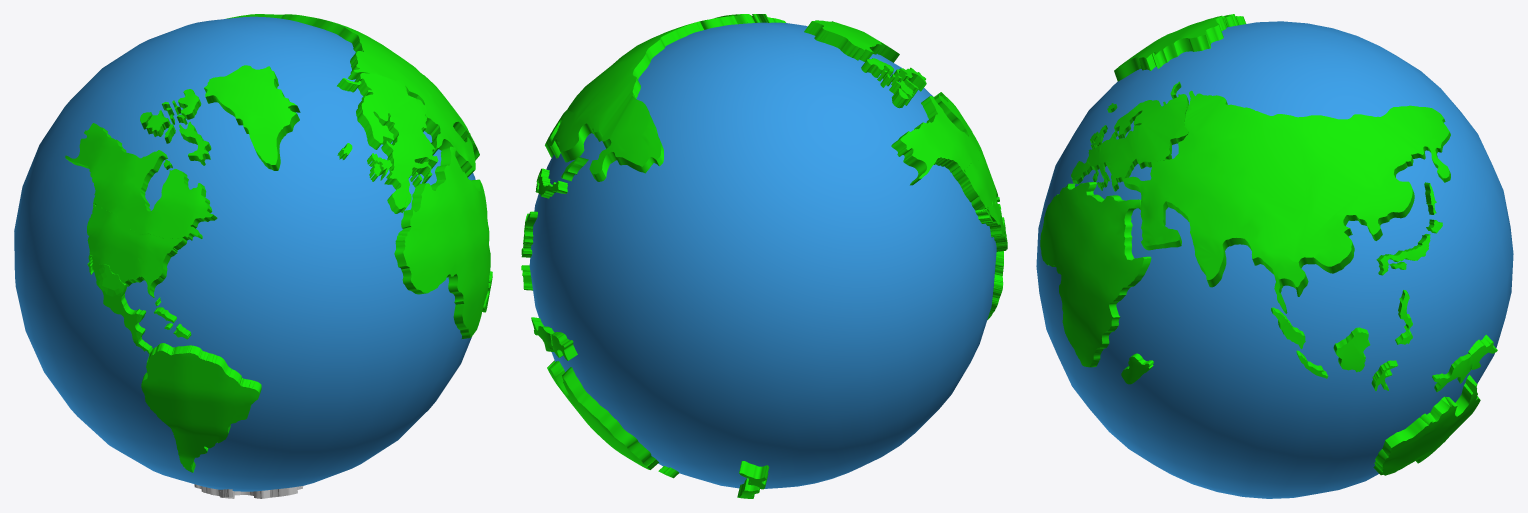
Rendered from WorldAsset.fbx.
3 renders of one model, left to right at view 1: azimuth 30°, elevation 25°; view 2: azimuth 150°, elevation 25°; view 3: azimuth 270°, elevation 25°, orthographic. The views are drawn at different scales.
Parts seen in each view (by area): view 1: Sphere, Plane.006, AmericaDelSur, Plane.002, Plane, AmericaDelSur.001, Plane.004, Plane.001; view 2: Sphere, Plane.006, AmericaDelSur, Plane.013, AmericaDelSur.001, Plane.012, Plane.003, Plane.004, Plane.010, Plane; view 3: Sphere, Plane.006, Plane.002, Plane.013, Plane.012, AmericaDelSur.001, Plane.003, Plane.011.
Boxes of the visible parts, <box> form: Sphere: <box>14,16,475,491</box>; Plane.006: <box>226,14,479,213</box>; AmericaDelSur: <box>65,123,217,297</box>; Plane.002: <box>394,146,490,338</box>; Plane: <box>141,343,261,472</box>; AmericaDelSur.001: <box>140,65,300,170</box>; Plane.004: <box>87,254,191,354</box>; Plane.001: <box>194,484,303,498</box>; Sphere: <box>529,22,996,488</box>; Plane.006: <box>545,14,785,181</box>; AmericaDelSur: <box>891,92,998,210</box>; Plane.013: <box>547,332,678,478</box>; AmericaDelSur.001: <box>804,20,936,108</box>; Plane.012: <box>521,211,554,352</box>; Plane.003: <box>535,157,588,198</box>; Plane.004: <box>975,197,1007,251</box>; Plane.010: <box>737,461,769,498</box>; Plane: <box>987,251,1003,319</box>; Sphere: <box>1036,21,1513,498</box>; Plane.006: <box>1071,81,1450,313</box>; Plane.002: <box>1040,182,1151,367</box>; Plane.013: <box>1373,334,1497,475</box>; Plane.012: <box>1271,290,1472,391</box>; AmericaDelSur.001: <box>1114,14,1246,81</box>; Plane.003: <box>1376,182,1442,275</box>; Plane.011: <box>1121,353,1153,384</box>.
Bounding box in the file's own units: 3392 × 3418 × 3336.
